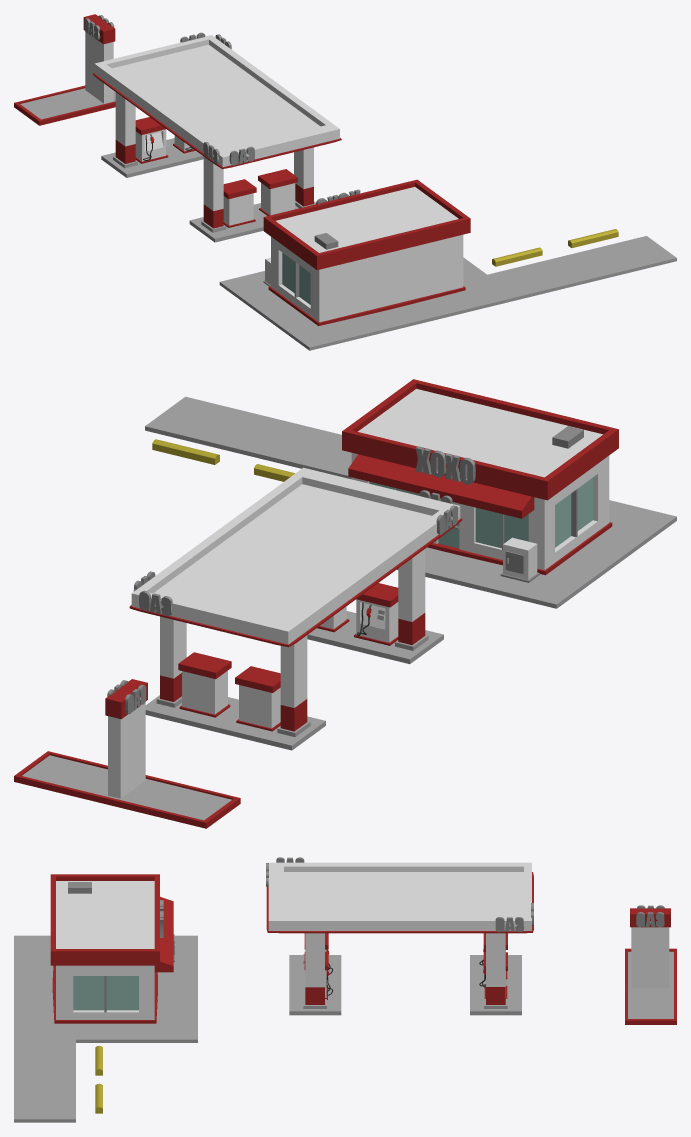
File: gas.fbx
3 views of the same model, one above another, from view 1: azimuth 30°, elevation 25°; view 2: azimuth 150°, elevation 25°; view 3: azimuth 270°, elevation 25° (orthographic). The views are drawn at different scales.
Parts seen in each view (by area): view 1: pCube2, pasted__pCube4, pasted__pCube2, pasted__pCube1, pCube7 (×2), pCube9, pCube3, pCube727, pCube728, pCube736, pCube1; view 2: pCube2, pasted__pCube2, pasted__pCube4, pasted__pCube1, pCube727, pCube7 (×2), carpa:pCube26, pCube9, pCube3, pCube728, pCube8, pCube10 (+3 smaller); view 3: pCube2, pasted__pCube4, pasted__pCube1, pasted__pCube2, pCube728, pCube1, pCube8, pCube727, carpa:pCube26, pCube3, pCube9.
Boxes of the visible parts, x1,y1,x2,y2 form: pCube2: (93, 35, 341, 168); pasted__pCube4: (219, 236, 676, 350); pasted__pCube2: (263, 198, 394, 325); pasted__pCube1: (340, 179, 470, 308); pCube7 (×2): (135, 117, 256, 227); pCube9: (101, 92, 183, 177); pCube3: (189, 156, 263, 242); pCube727: (14, 85, 115, 125); pCube728: (83, 14, 115, 103); pCube736: (258, 169, 297, 215); pCube1: (253, 147, 315, 219); pCube2: (129, 467, 462, 647); pasted__pCube2: (444, 404, 618, 575); pasted__pCube4: (145, 396, 676, 608); pasted__pCube1: (342, 379, 516, 551); pCube727: (14, 751, 240, 828); pCube7 (×2): (235, 583, 398, 731); carpa:pCube26: (348, 454, 534, 518); pCube9: (216, 635, 325, 750); pCube3: (334, 549, 443, 664); pCube728: (105, 679, 147, 798); pCube8: (145, 616, 238, 731); pCube10: (178, 652, 231, 717); pCube2: (266, 862, 533, 933); pasted__pCube4: (14, 935, 197, 1122); pasted__pCube1: (50, 912, 159, 1023); pasted__pCube2: (50, 874, 159, 983); pCube728: (630, 908, 670, 988); pCube1: (289, 933, 341, 1015); pCube8: (470, 933, 521, 1015); pCube727: (625, 948, 676, 1024); carpa:pCube26: (154, 896, 173, 972); pCube3: (289, 954, 341, 983); pCube9: (470, 955, 521, 983).
Size of the model in its own units: 90.72 by 22.95 by 138.
